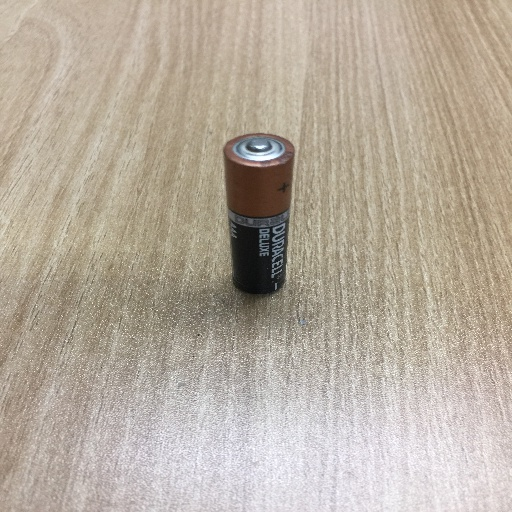Battery_0: (221, 120, 305, 312)
